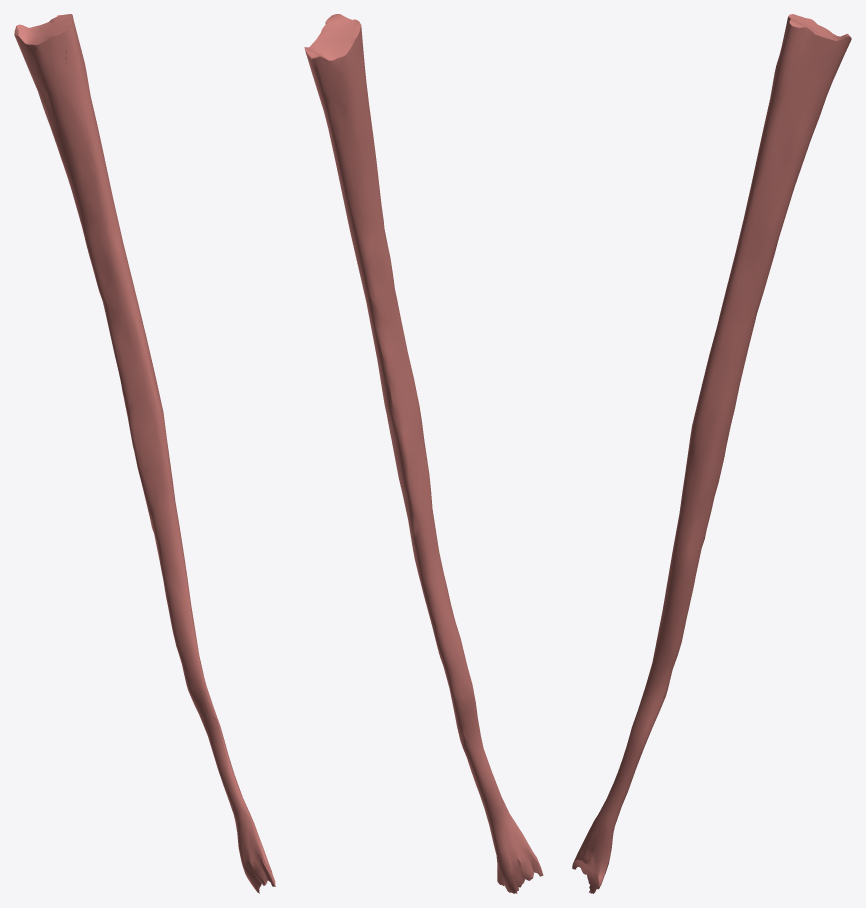
File: fma40705-f_mm1979.glb
3 views of the same model, side by side, from view 1: azimuth 90°, elevation 25°; view 2: azimuth 150°, elevation 25°; view 3: azimuth 270°, elevation 25° (orthographic). The views are drawn at different scales.
Parts seen in each view (by area): view 1: FMA40705-F_MM1979; view 2: FMA40705-F_MM1979; view 3: FMA40705-F_MM1979.
Boxes of the visible parts, bbox=[...] form: FMA40705-F_MM1979: bbox=[14, 14, 275, 893]; FMA40705-F_MM1979: bbox=[304, 14, 543, 893]; FMA40705-F_MM1979: bbox=[572, 14, 851, 893].
Size of the model in its own units: 0.0154 by 0.1395 by 0.039.
